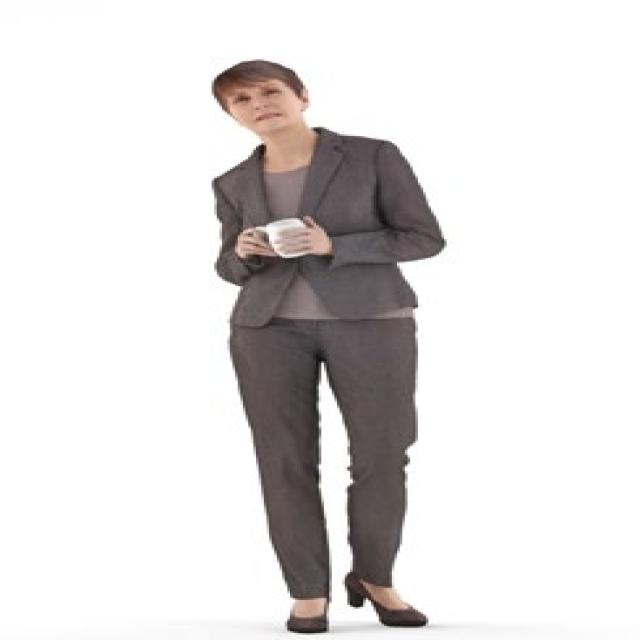standing: (199, 54, 452, 637)
